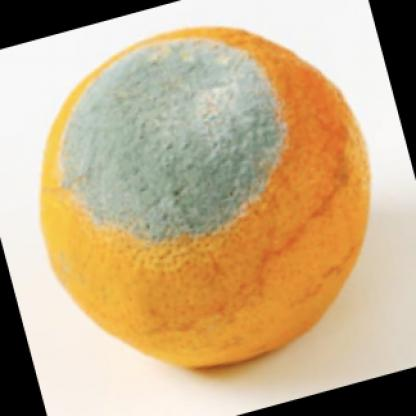rotten_orange: (29, 18, 375, 383)
